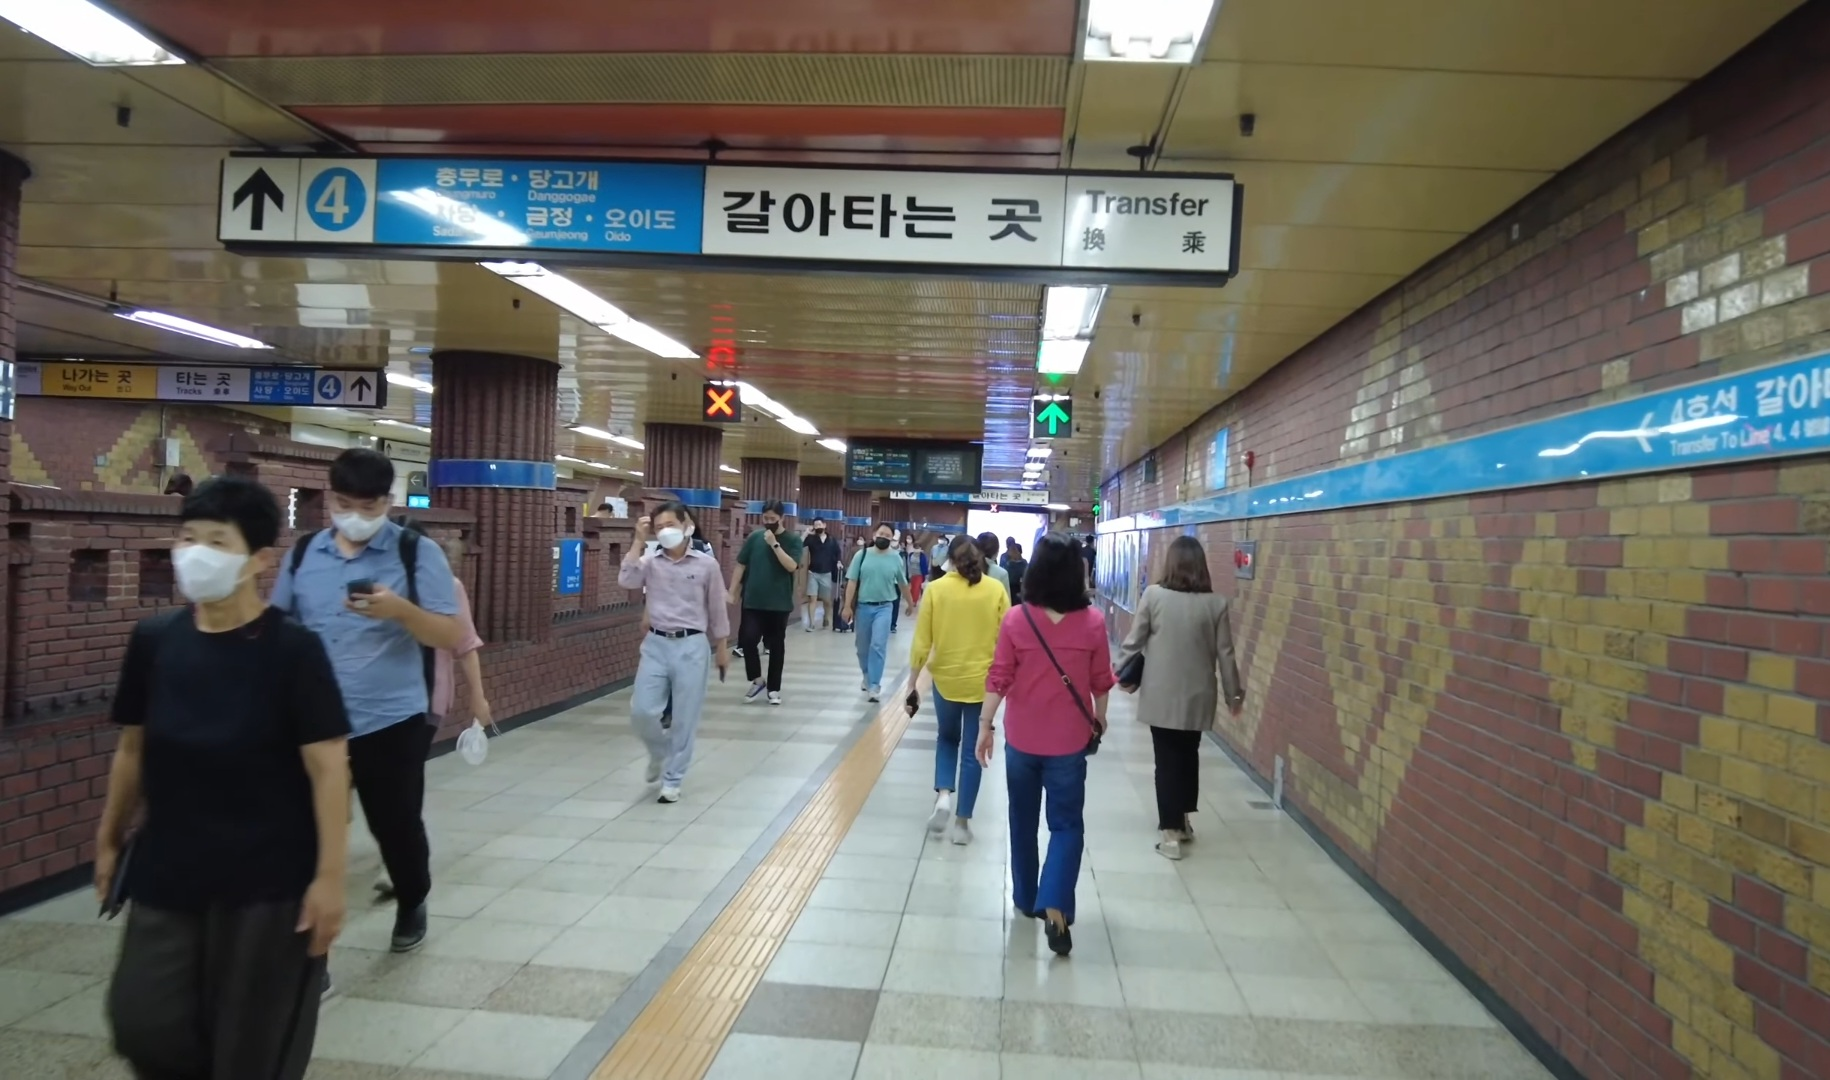signBoard: (197, 136, 1250, 289)
